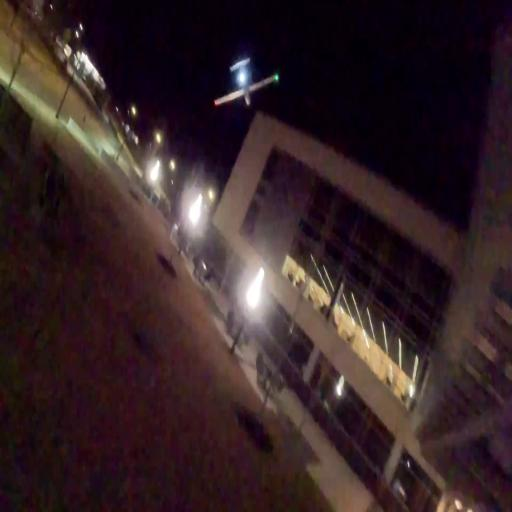uav: (213, 50, 279, 114)
